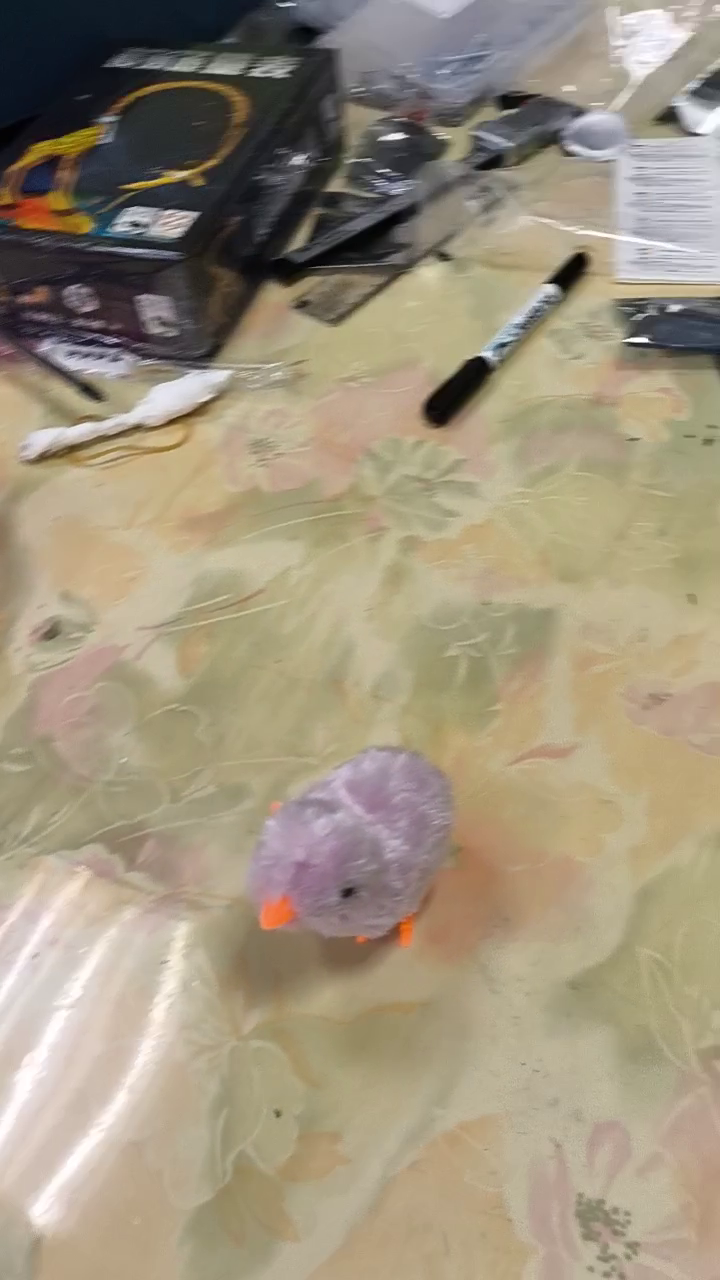pink chicken: (250, 740, 455, 955)
